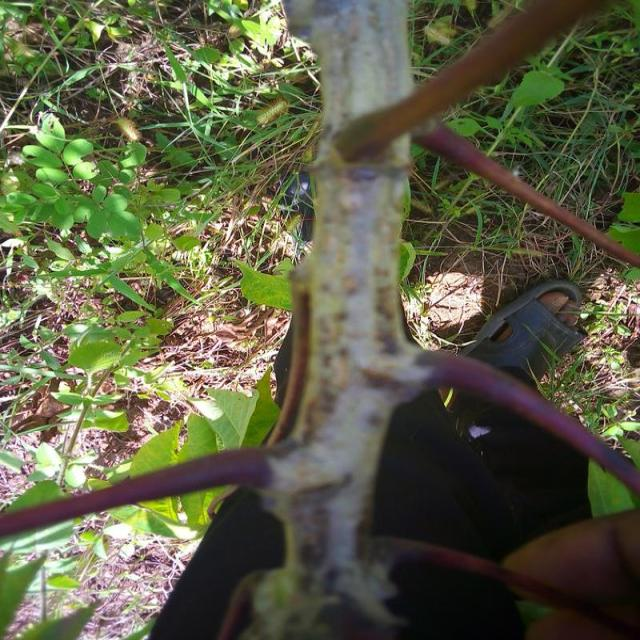cassava leaf: (106, 366, 282, 541)
